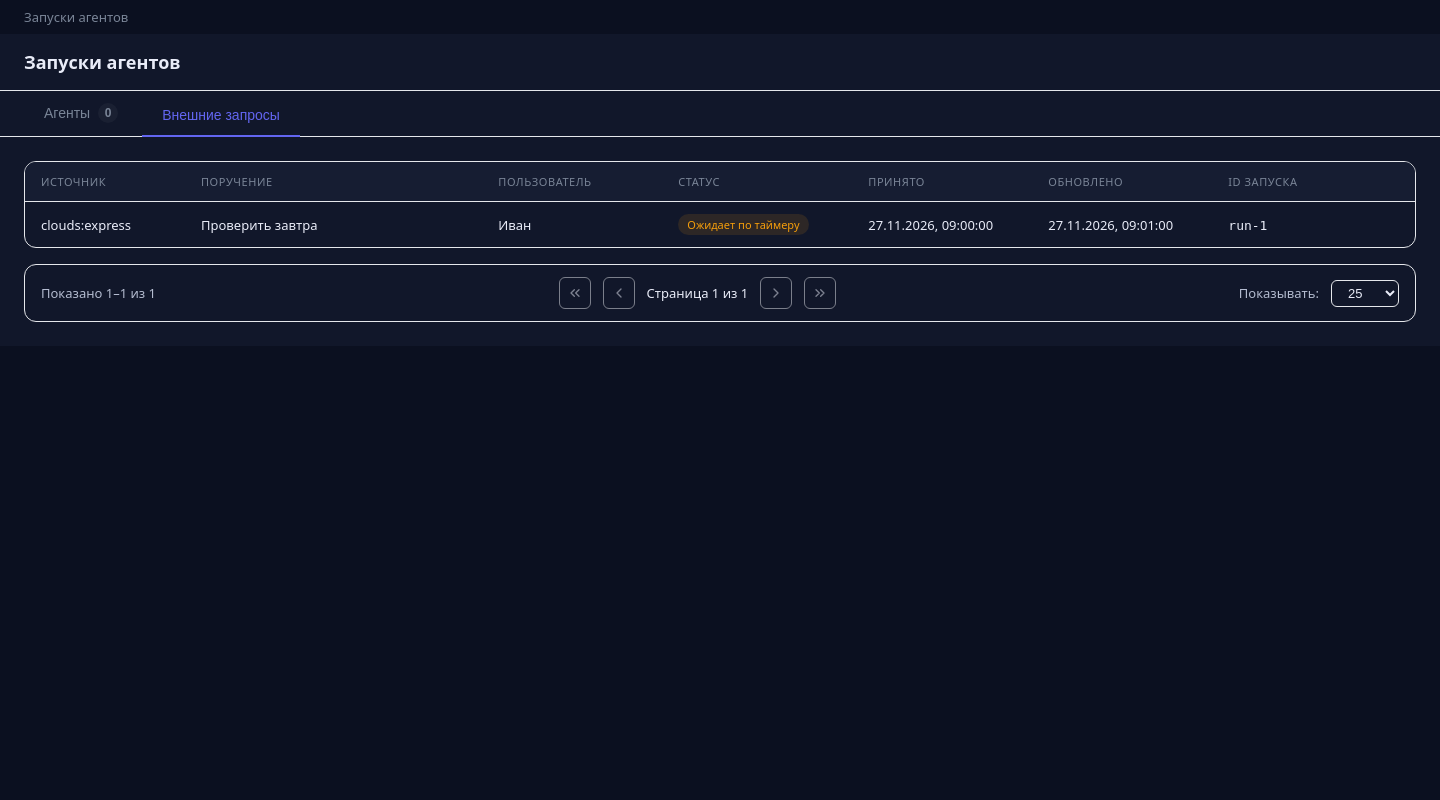
Test case: opens an assignment from its row and returns to the external requests tab
This screenshot has width=1440, height=800.
Later steps or results of the test are not shown.
Expected: the text "clouds:express" is shown, [25,202,185,247]
Expected: the text "Ожидает по таймеру" is shown, [678,214,809,235]
Click the text "Проверить завтра" at point(259, 225), box [185,202,482,247]
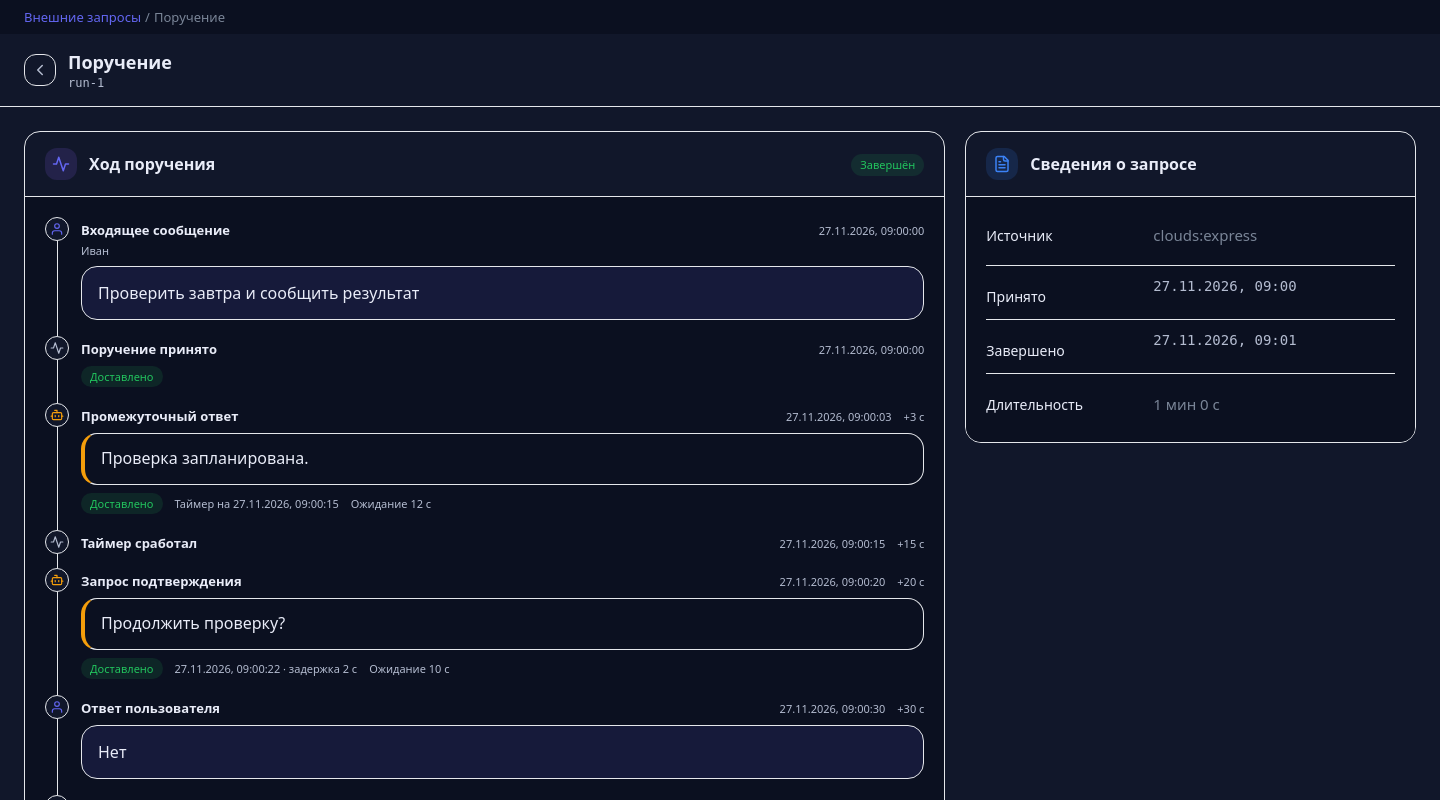
Expected: the heading "Поручение" is shown, [68,50,172,74]
Expected: the text "Проверить завтра и сообщить результат" is shown, [98,282,419,304]
Expected: the heading "Ход поручения" is shown, [89,153,215,175]
